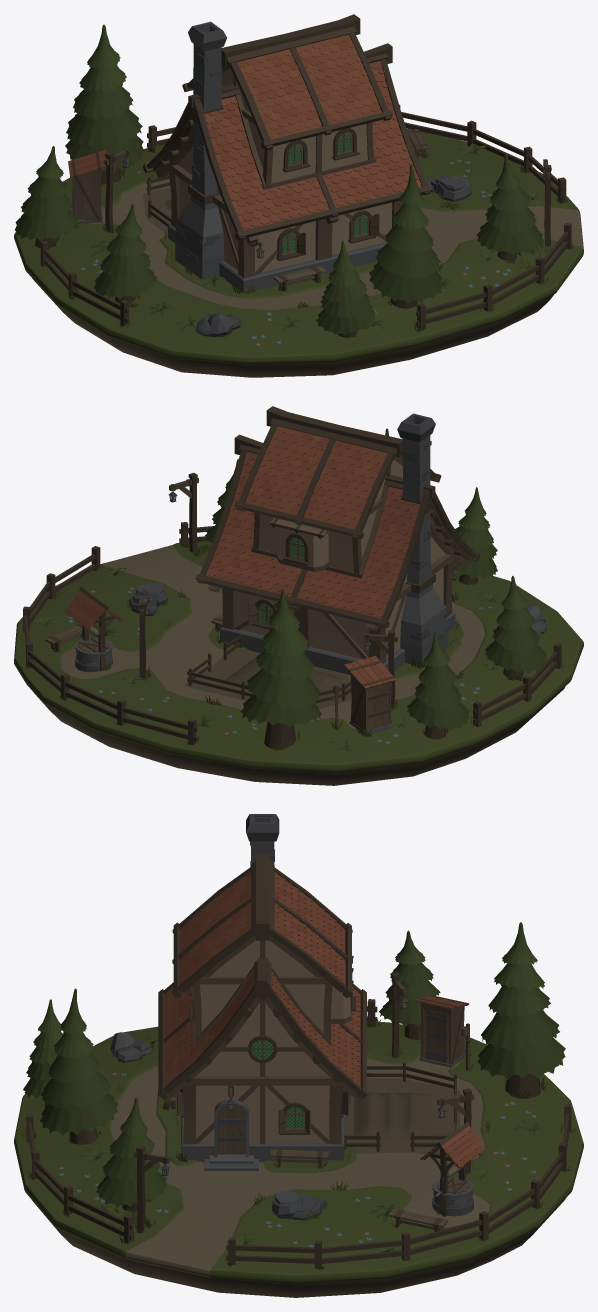
The model's file is stylized_medieval_house.glb.
3 renders of one model, top to bottom at view 1: azimuth 30°, elevation 25°; view 2: azimuth 150°, elevation 25°; view 3: azimuth 270°, elevation 25°, orthographic. The views are drawn at different scales.
Visible parts, largest first — view 1: polySurface13632_trava_1_0, polySurface13632_krysha_1_4_0, polySurface13632_derevo_7_0, polySurface13632_derevo_6_0, polySurface13632_listva_2_0, polySurface13632_zemla_1_0, polySurface13632_listva_1_0, polySurface13632_dom_stena_1_0, polySurface13632_gradka_0, polySurface13632_kamen_6_0, polySurface13632_listva_3_0, polySurface13632_derevo_3_0 (+18 smaller); view 2: polySurface13632_trava_1_0, polySurface13632_krysha_1_4_0, polySurface13632_derevo_7_0, polySurface13632_zemla_1_0, polySurface13632_derevo_6_0, polySurface13632_gradka_0, polySurface13632_dom_stena_1_0, polySurface13632_kamen_6_0, polySurface13632_listva_1_0, polySurface13632_listva_2_0, polySurface13632_derevo_3_0, polySurface13632_krysha_1_1_0 (+16 smaller); view 3: polySurface13632_trava_1_0, polySurface13632_zemla_1_0, polySurface13632_derevo_7_0, polySurface13632_dom_stena_1_0, polySurface13632_derevo_6_0, polySurface13632_gradka_0, polySurface13632_krysha_1_4_0, polySurface13632_listva_1_0, polySurface13632_listva_2_0, polySurface13632_derevo_5_0, polySurface13632_derevo_3_0, polySurface13632_listva_3_0 (+18 smaller).
Boxes of the visible parts, left/top/right/bottom form: polySurface13632_trava_1_0: left=14, top=128, right=583, bottom=364; polySurface13632_krysha_1_4_0: left=68, top=37, right=421, bottom=230; polySurface13632_derevo_7_0: left=44, top=32, right=568, bottom=326; polySurface13632_derevo_6_0: left=40, top=14, right=571, bottom=330; polySurface13632_listva_2_0: left=21, top=108, right=536, bottom=329; polySurface13632_zemla_1_0: left=87, top=179, right=583, bottom=310; polySurface13632_listva_1_0: left=15, top=136, right=543, bottom=334; polySurface13632_dom_stena_1_0: left=178, top=69, right=392, bottom=272; polySurface13632_gradka_0: left=32, top=200, right=553, bottom=377; polySurface13632_kamen_6_0: left=175, top=25, right=224, bottom=278; polySurface13632_listva_3_0: left=73, top=85, right=534, bottom=316; polySurface13632_derevo_3_0: left=82, top=94, right=421, bottom=278; polySurface13632_trava_1_0: left=14, top=541, right=583, bottom=772; polySurface13632_krysha_1_4_0: left=68, top=426, right=419, bottom=689; polySurface13632_derevo_7_0: left=24, top=424, right=557, bottom=741; polySurface13632_zemla_1_0: left=60, top=545, right=484, bottom=729; polySurface13632_derevo_6_0: left=23, top=406, right=561, bottom=745; polySurface13632_gradka_0: left=34, top=657, right=564, bottom=785; polySurface13632_dom_stena_1_0: left=234, top=459, right=445, bottom=659; polySurface13632_kamen_6_0: left=75, top=417, right=448, bottom=666; polySurface13632_listva_1_0: left=205, top=524, right=547, bottom=731; polySurface13632_listva_2_0: left=212, top=506, right=539, bottom=710; polySurface13632_derevo_3_0: left=53, top=484, right=456, bottom=727; polySurface13632_krysha_1_1_0: left=77, top=428, right=419, bottom=685; polySurface13632_trava_1_0: left=14, top=1021, right=583, bottom=1283; polySurface13632_zemla_1_0: left=110, top=1056, right=489, bottom=1277; polySurface13632_derevo_7_0: left=28, top=867, right=569, bottom=1263; polySurface13632_dom_stena_1_0: left=196, top=940, right=350, bottom=1142; polySurface13632_derevo_6_0: left=26, top=854, right=571, bottom=1268; polySurface13632_gradka_0: left=32, top=1092, right=565, bottom=1297; polySurface13632_krysha_1_4_0: left=164, top=872, right=481, bottom=1163; polySurface13632_listva_1_0: left=23, top=999, right=565, bottom=1207; polySurface13632_listva_2_0: left=26, top=962, right=559, bottom=1181; polySurface13632_derevo_5_0: left=164, top=976, right=482, bottom=1224; polySurface13632_derevo_3_0: left=143, top=966, right=469, bottom=1230; polySurface13632_listva_3_0: left=29, top=985, right=550, bottom=1222.
Size of the model in its own units: 2.5 by 1.41 by 2.31.
